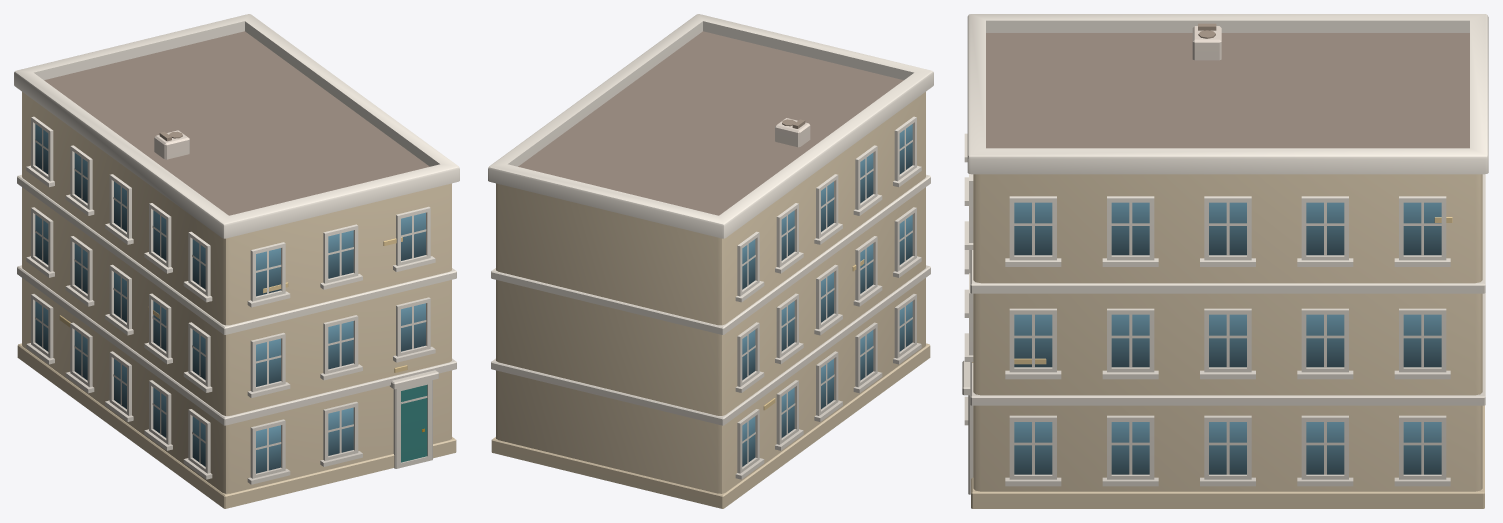
File: boylston_s13.glb
3 views of the same model, side by side, from view 1: azimuth 30°, elevation 25°; view 2: azimuth 150°, elevation 25°; view 3: azimuth 270°, elevation 25° (orthographic). The views are drawn at different scales.
Parts seen in each view (by area): view 1: boylston_s13; view 2: boylston_s13; view 3: boylston_s13.
Part boxes in pixels (x1,y1,x2,y2): boylston_s13: [14, 14, 459, 508]; boylston_s13: [488, 14, 933, 508]; boylston_s13: [962, 14, 1488, 508].
Size of the model in its own units: 9.48 by 11.11 by 14.46.
Materials: 1 (1 with a texture image).
